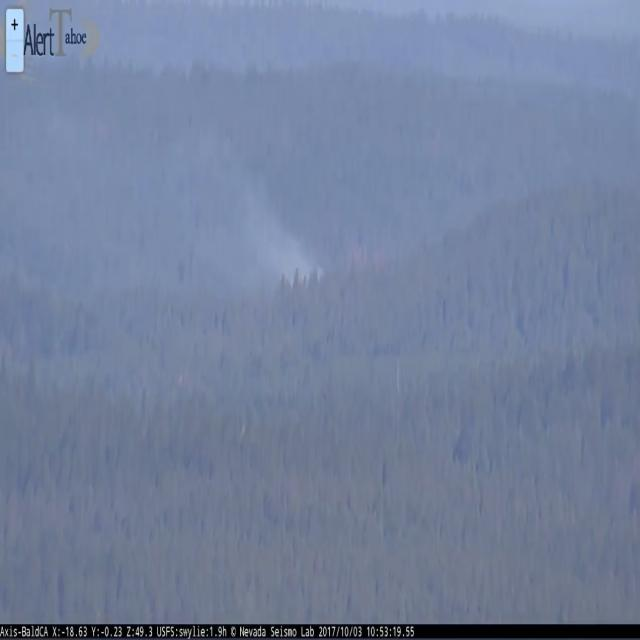smoke: (247, 198, 322, 284)
